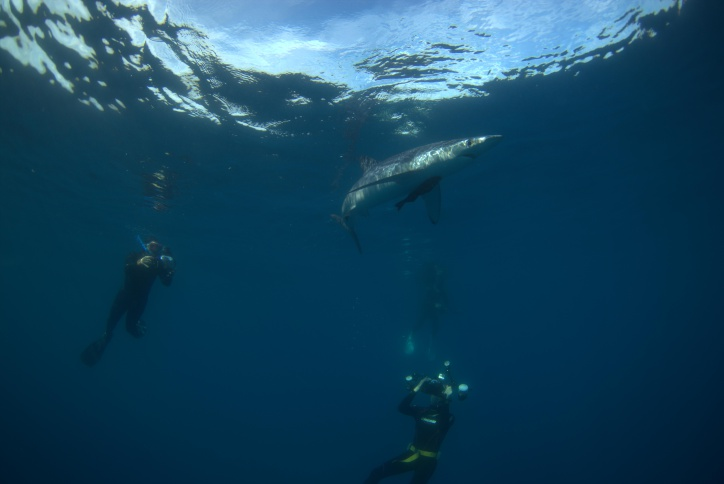Azul: (320, 126, 512, 256)
